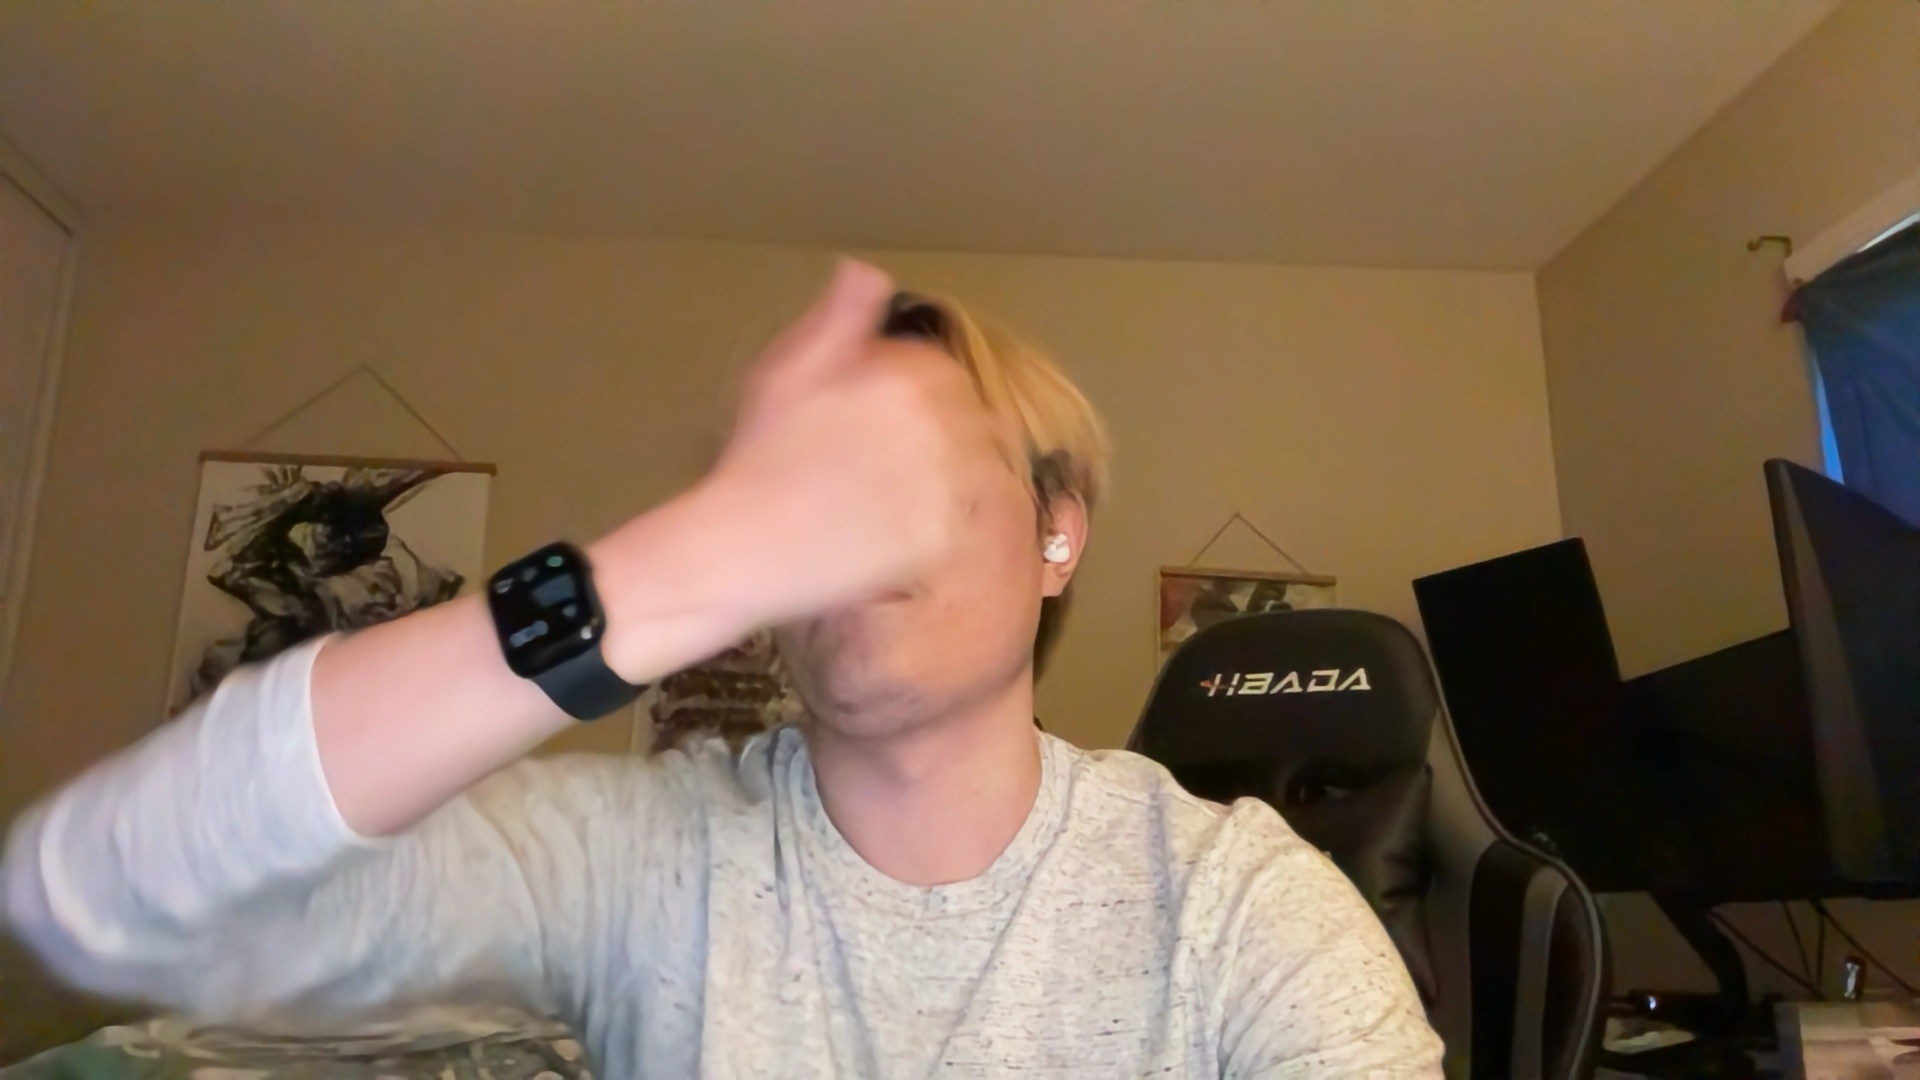watch: (468, 549, 663, 733)
